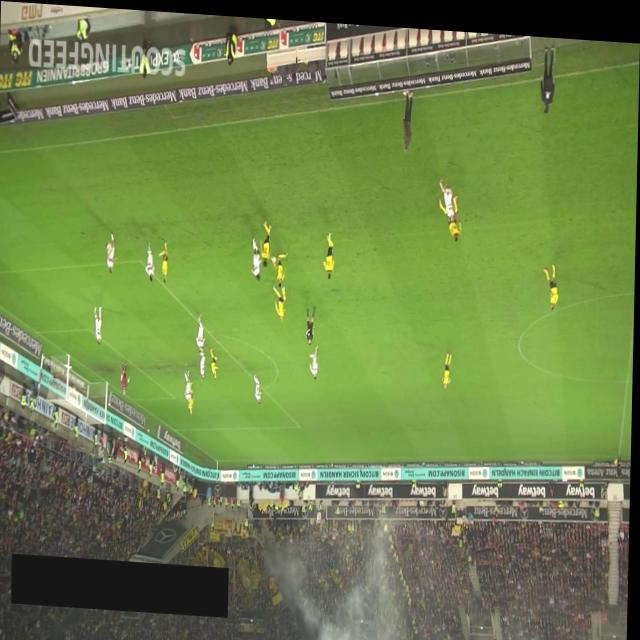goalkeeper: (121, 359, 131, 393)
player: (542, 254, 560, 302), (438, 171, 456, 217), (449, 188, 463, 235), (260, 213, 272, 263), (323, 226, 335, 275), (270, 248, 286, 283), (106, 229, 119, 272), (273, 280, 287, 317), (251, 232, 262, 277), (158, 238, 169, 280), (196, 309, 207, 349), (145, 238, 156, 278), (443, 344, 453, 382), (309, 338, 319, 375), (94, 303, 103, 344), (210, 343, 220, 376), (253, 370, 264, 400), (184, 366, 193, 400), (200, 346, 207, 376), (189, 391, 195, 412)
referee: (305, 300, 316, 341), (615, 446, 624, 473)
